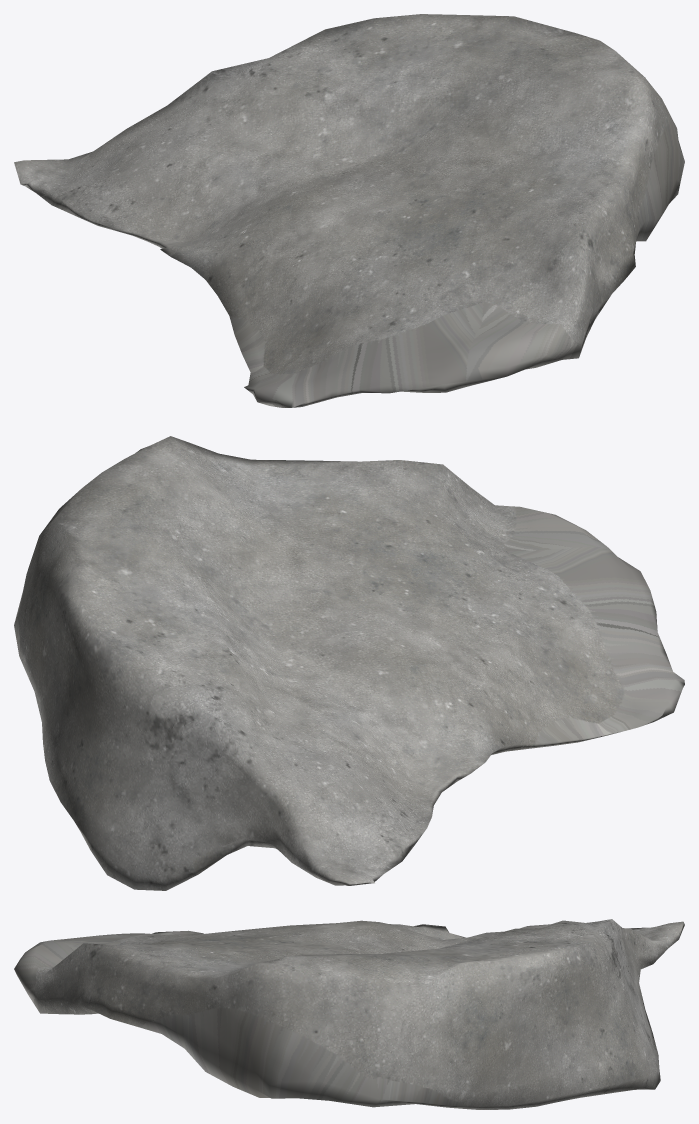
Rendered from rock2.fbx.
3 views of the same model, one above another, from view 1: azimuth 30°, elevation 25°; view 2: azimuth 150°, elevation 25°; view 3: azimuth 270°, elevation 25° (orthographic). The views are drawn at different scales.
Parts seen in each view (by area): view 1: rock2; view 2: rock2; view 3: rock2.
Part boxes in pixels (x1,y1,x2,y2): rock2: (14, 14, 684, 407); rock2: (14, 436, 684, 890); rock2: (14, 919, 684, 1109).
Size of the model in its own units: 875 by 364 by 1101.
1 material, 1 textured.
